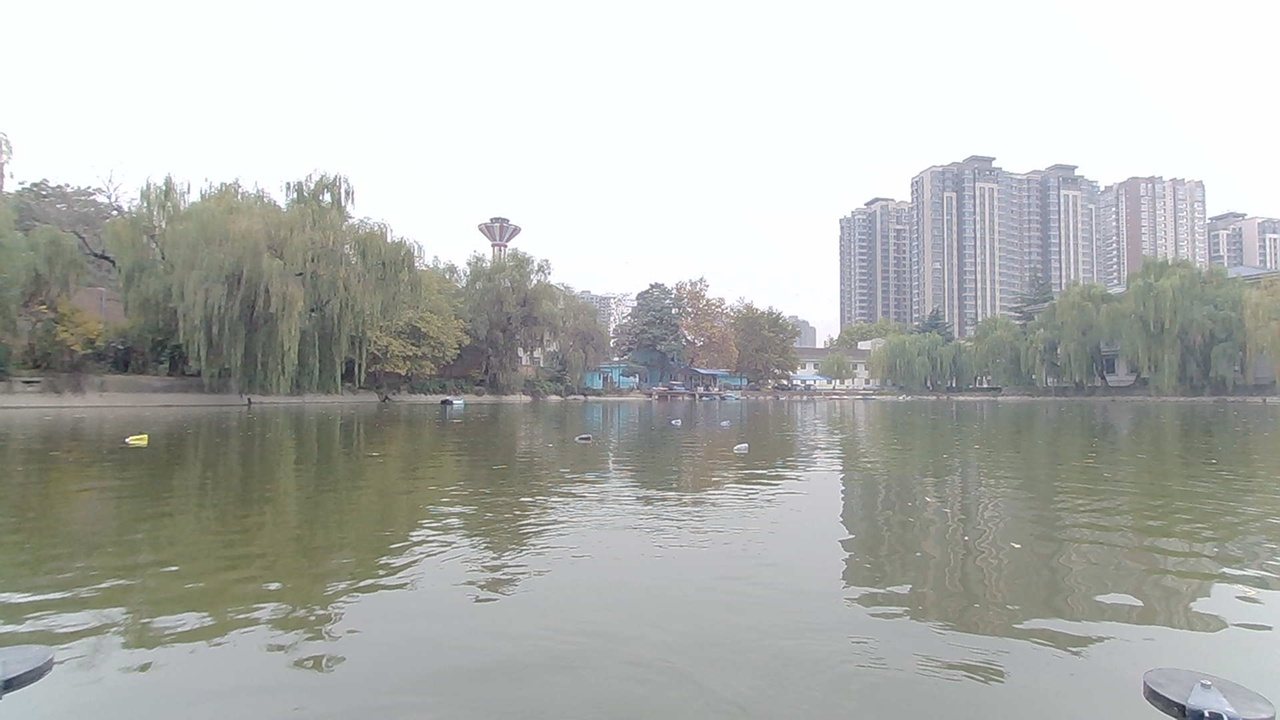bottle: (116, 422, 164, 454), (570, 425, 600, 447), (730, 438, 760, 459), (708, 416, 741, 433), (667, 410, 689, 429)
